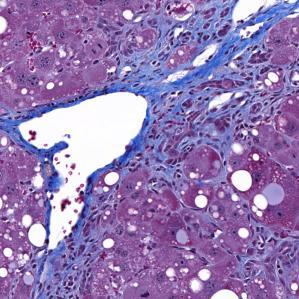fibrosis: (134, 42, 265, 159)
